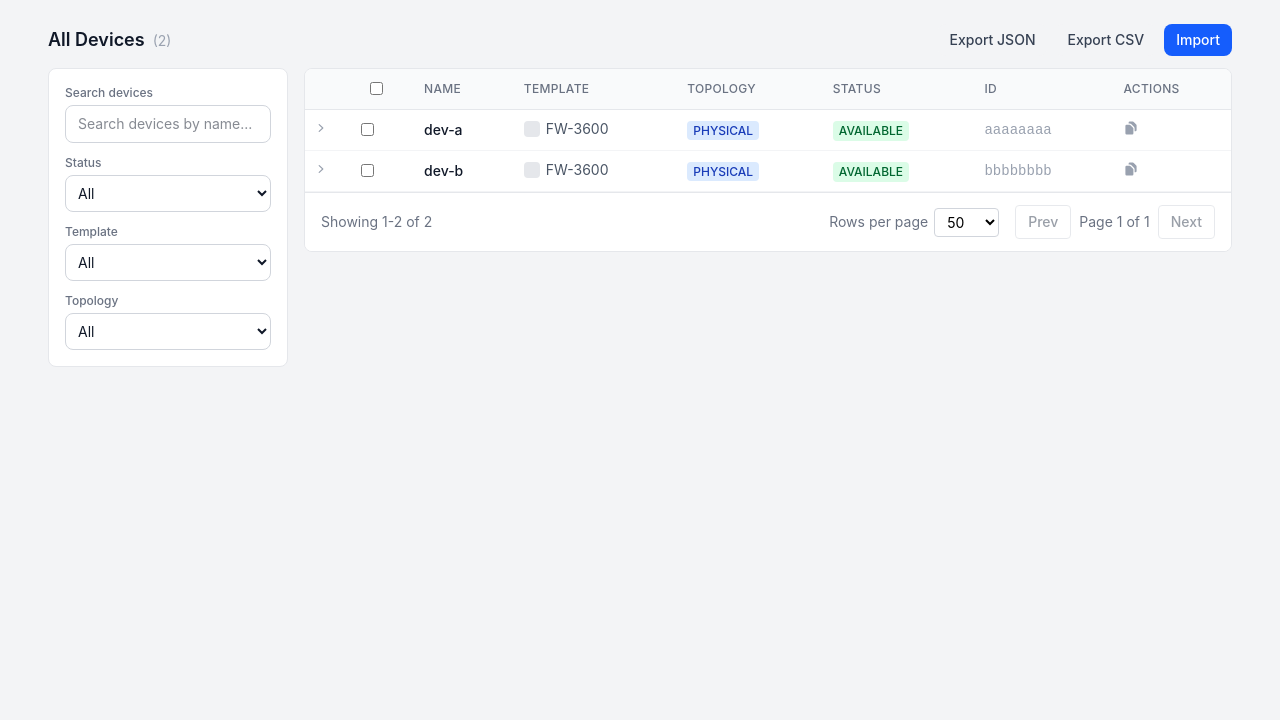
Test: InventoryPage › list changes and row state (issue #938) › drops an expanded row whose id left the list and does not resurrect it
Expected: the text "dev-a" is shown, [408,110,508,150]
Step 1. Click the button named "Expand ports" next to "dev-a" → (321, 128), box [313,120,329,136]
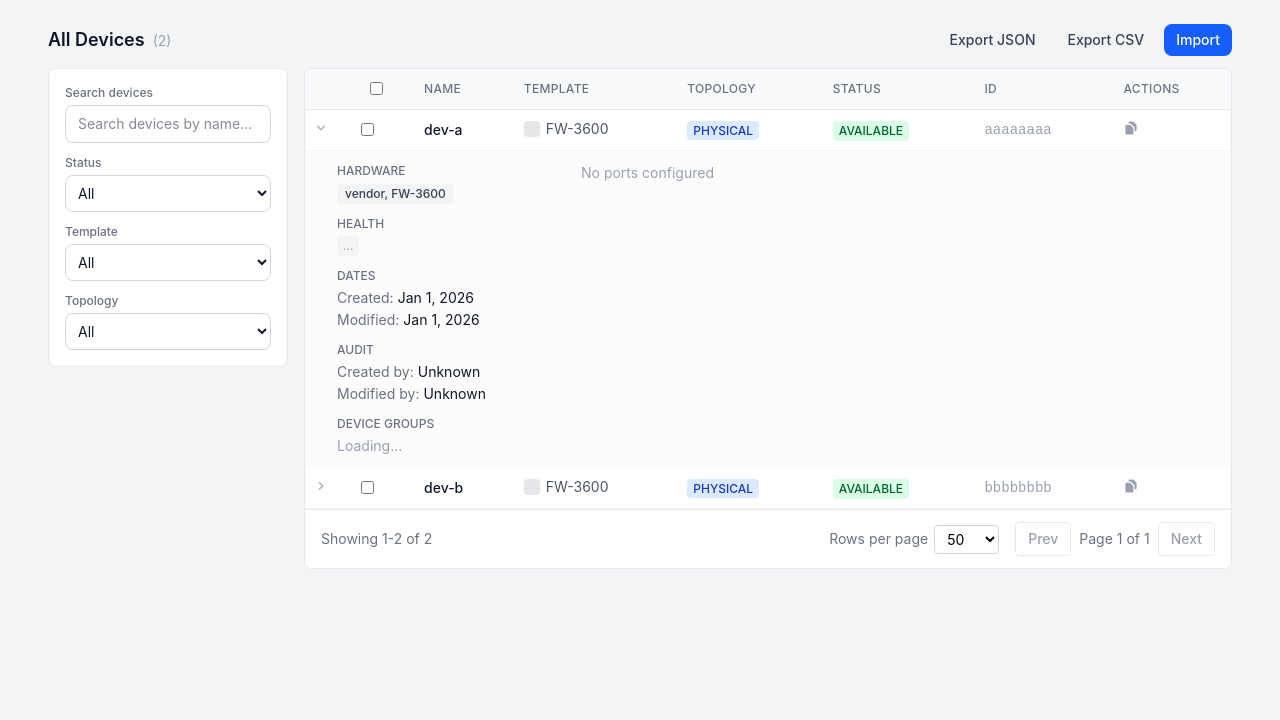
Expected: the text "No ports configured" is shown, [581,164,714,181]
Step 2. Type "only_b" into the field with placeholder "Search devices by name..." → (168, 124), box [65,105,271,143]
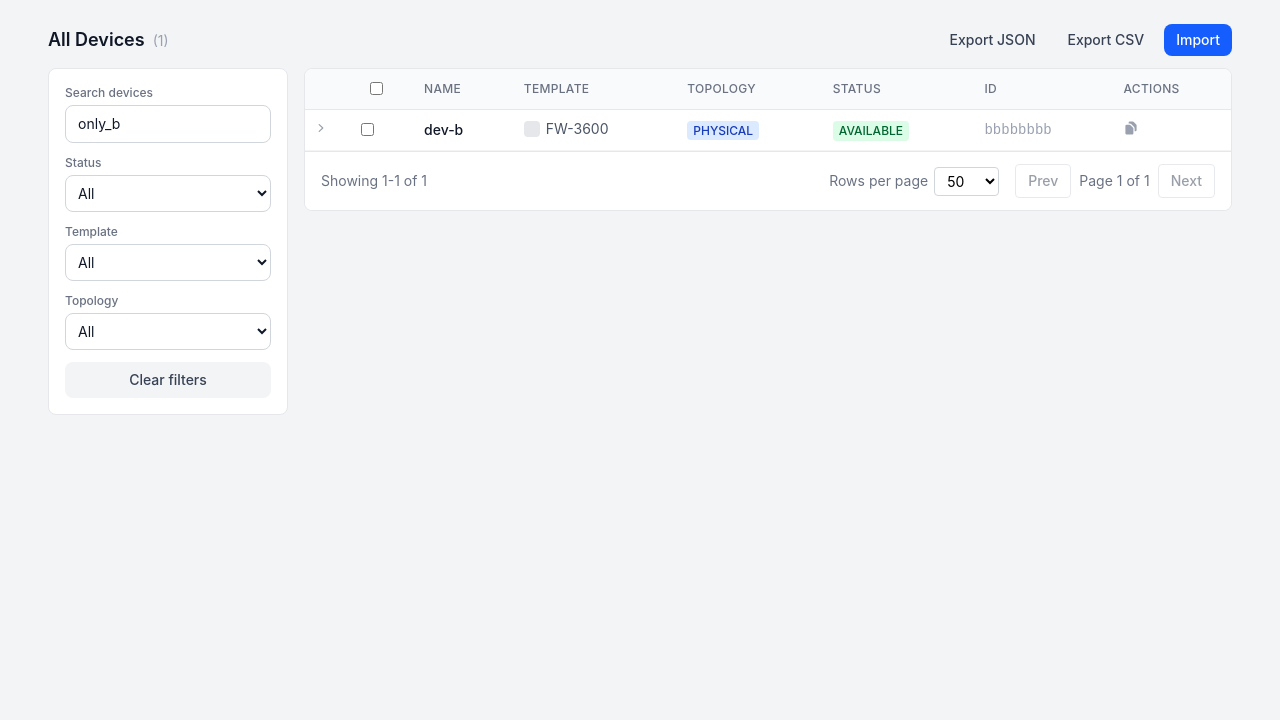
Expected: the text "dev-a" is gone
Expected: the text "No ports configured" is gone
Step 3. Clear the field with placeholder "Search devices by name..." → (168, 124), box [65,105,271,143]
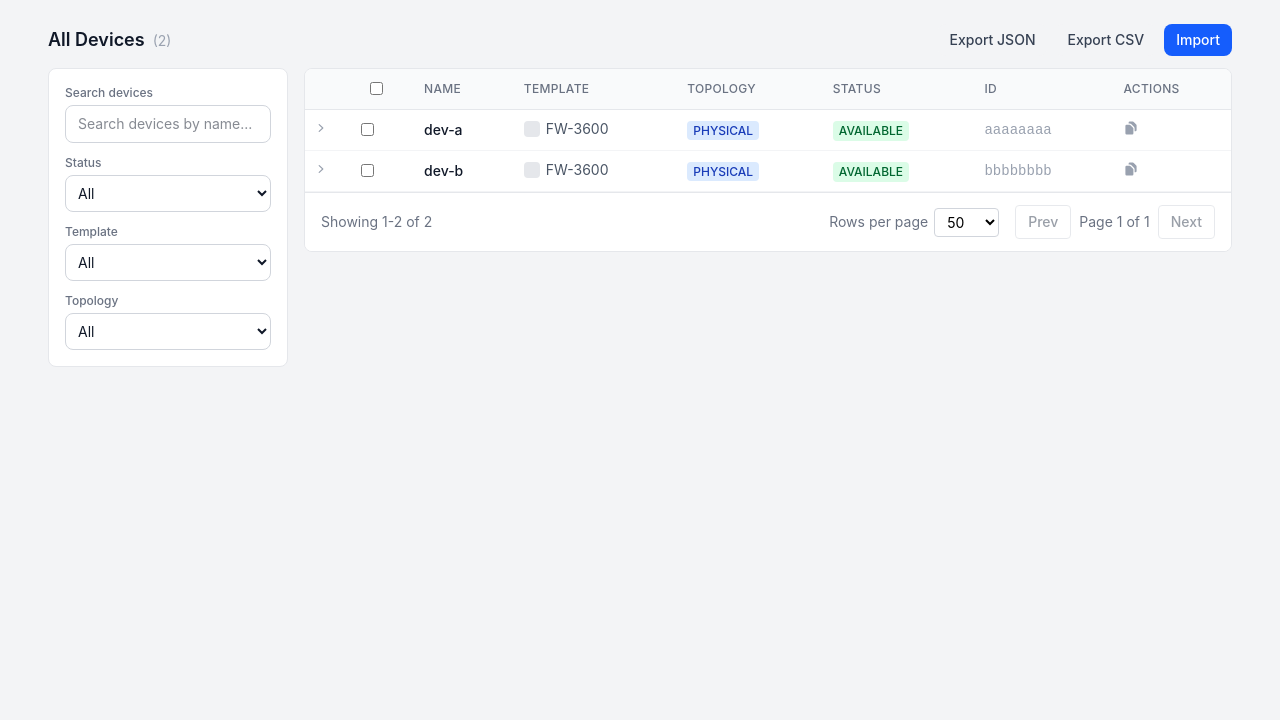
Expected: the text "dev-a" is shown, [408,110,508,150]
Expected: the number of buttons named "Expand ports" is 2, [313,120,329,136]; [313,161,329,177]
